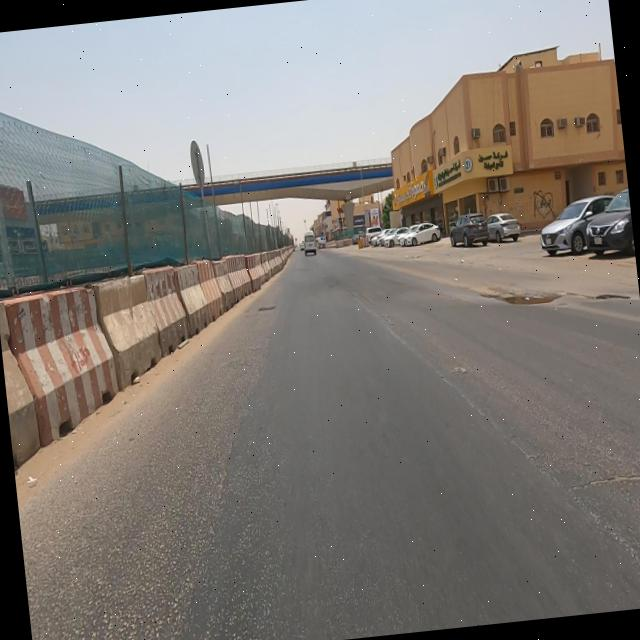Graffiti: (69, 341, 95, 374), (532, 187, 556, 219)
